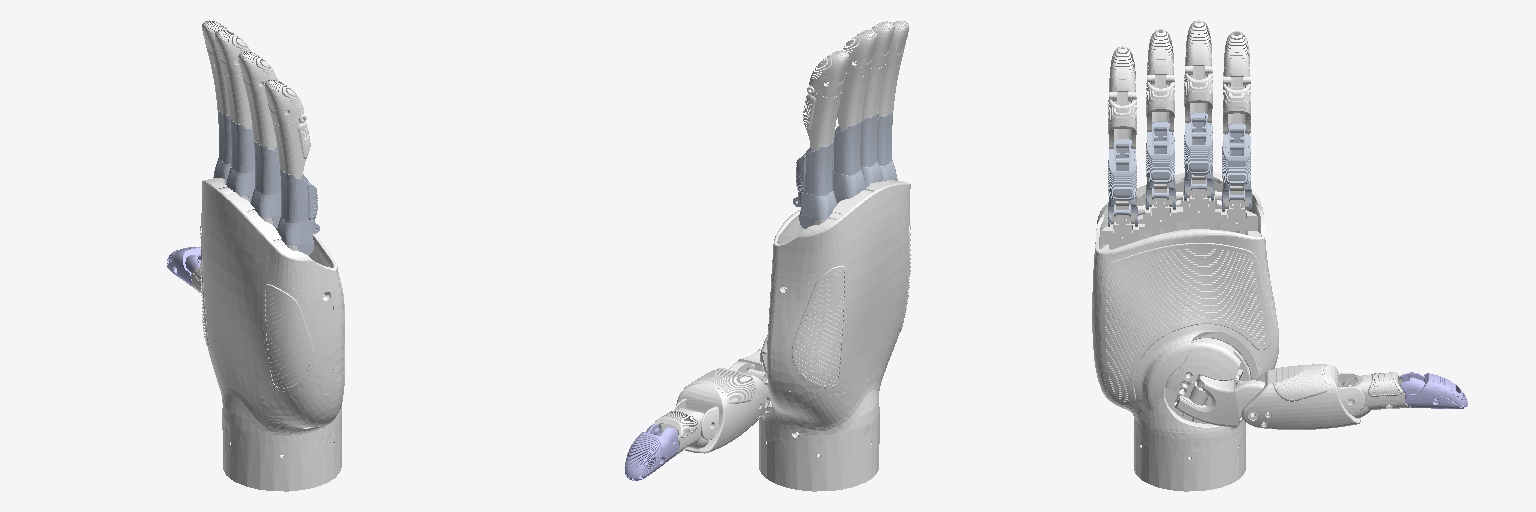
--- What the picture shows (computed from the rendered views, not written in the file) ---
The picture shows the robot from 3 angles, left to right: view 1: azimuth 30°, elevation 25°; view 2: azimuth 150°, elevation 25°; view 3: azimuth 270°, elevation 25°; orthographic projection.
Robot: linker_l20_right_v9.0_urdf — 22 links, 21 joints (21 revolute); root link base_link; default pose: every joint at zero.
Visible links, largest first — view 1: base_link, pinky_proximal, ring_proximal, middle_proximal, pinky_middle, pinky_distal, ring_distal, ring_middle, middle_distal, middle_middle, thumb_distal, index_proximal (+2 smaller); view 2: base_link, thumb_metacarpals, index_proximal, middle_proximal, thumb_distal, index_middle, index_distal, thumb_proximal, middle_middle, ring_proximal, middle_distal, pinky_proximal (+4 smaller); view 3: base_link, thumb_metacarpals, thumb_metacarpals_base1, index_proximal, ring_proximal, middle_proximal, pinky_proximal, thumb_metacarpals_base2, thumb_distal, thumb_proximal, middle_middle, pinky_middle (+6 smaller).
Boxes of the visible links, x1,y1,x2,y2 form: base_link: (200, 178, 344, 491); pinky_proximal: (277, 169, 319, 255); ring_proximal: (251, 141, 280, 227); middle_proximal: (226, 119, 254, 203); pinky_middle: (273, 114, 310, 177); pinky_distal: (264, 80, 303, 125); ring_distal: (238, 51, 277, 97); ring_middle: (246, 92, 276, 149); middle_distal: (215, 30, 250, 75); middle_middle: (223, 72, 251, 127); thumb_distal: (167, 247, 200, 285); index_proximal: (213, 109, 231, 184); base_link: (759, 180, 910, 491); thumb_metacarpals: (674, 361, 770, 453); index_proximal: (793, 141, 836, 228); middle_proximal: (833, 121, 865, 203); thumb_distal: (625, 424, 679, 480); index_middle: (803, 86, 841, 150); index_distal: (809, 50, 849, 97); thumb_proximal: (654, 408, 708, 456); middle_middle: (837, 72, 869, 129); ring_proximal: (861, 112, 882, 187); middle_distal: (842, 30, 877, 76); pinky_proximal: (877, 110, 897, 180); base_link: (1092, 173, 1278, 491); thumb_metacarpals: (1235, 364, 1364, 429); thumb_metacarpals_base1: (1165, 338, 1249, 423); index_proximal: (1222, 123, 1251, 211); ring_proximal: (1146, 121, 1175, 209); middle_proximal: (1184, 113, 1213, 200); pinky_proximal: (1108, 139, 1137, 226); thumb_metacarpals_base2: (1175, 376, 1242, 426); thumb_distal: (1400, 372, 1467, 408); thumb_proximal: (1343, 372, 1411, 418); middle_middle: (1184, 66, 1212, 122); pinky_middle: (1108, 92, 1136, 148).
Size in the robot's own frame: 0.0767 by 0.2132 by 0.2634 metres.
22 mesh visuals loaded from 22 distinct referenced files (22 binary STL).

URDF robot description (linker_l20_right_v9.0_urdf):
<?xml version="1.0" encoding="utf-8"?>
<!-- This URDF was automatically created by SolidWorks to URDF Exporter! Originally created by Stephen Brawner ([email redacted]) 
     Commit Version: 1.6.0-4-g7f85cfe  Build Version: 1.6.7995.38578
     For more information, please see http://wiki.ros.org/sw_urdf_exporter -->
<robot
  name="linker_l20_right_v9.0_urdf">
  <link
    name="base_link">
    <inertial>
      <origin
        xyz="-0.0116260966942382 -0.00274813279998326 0.0887556064299578"
        rpy="0 0 0" />
      <mass
        value="0.119355521222427" />
      <inertia
        ixx="0.000281608895823112"
        ixy="8.38474241472843E-07"
        ixz="-1.21134466138976E-05"
        iyy="0.00019328567036429"
        iyz="4.38631241419914E-07"
        izz="0.000103627416878272" />
    </inertial>
    <visual>
      <origin
        xyz="0 0 0"
        rpy="0 0 0" />
      <geometry>
        <mesh
          filename="meshes/base_link.STL" />
      </geometry>
      <material
        name="">
        <color
          rgba="1 1 1 1" />
      </material>
    </visual>
    <collision>
      <origin
        xyz="0 0 0"
        rpy="0 0 0" />
      <geometry>
        <mesh
          filename="meshes/base_link.STL" />
      </geometry>
    </collision>
  </link>
  <link
    name="pinky_metacarpals">
    <inertial>
      <origin
        xyz="0.0111783787153197 1.73988259632996E-08 0.00220160108534925"
        rpy="0 0 0" />
      <mass
        value="0.000876738307234833" />
      <inertia
        ixx="3.50684268310259E-08"
        ixy="-2.01255880662754E-13"
        ixz="5.24776532940736E-09"
        iyy="2.68810255289946E-08"
        iyz="-3.6732684106161E-14"
        izz="4.23561712818563E-08" />
    </inertial>
    <visual>
      <origin
        xyz="0 0 0"
        rpy="0 0 0" />
      <geometry>
        <mesh
          filename="meshes/pinky_metacarpals.STL" />
      </geometry>
      <material
        name="">
        <color
          rgba="1 1 1 1" />
      </material>
    </visual>
    <collision>
      <origin
        xyz="0 0 0"
        rpy="0 0 0" />
      <geometry>
        <mesh
          filename="meshes/pinky_metacarpals.STL" />
      </geometry>
    </collision>
  </link>
  <joint
    name="pinky_mcp_roll"
    type="revolute">
    <origin
      xyz="-0.028576 -0.038102 0.15031"
      rpy="0 0 0" />
    <parent
      link="base_link" />
    <child
      link="pinky_metacarpals" />
    <axis
      xyz="1 0 0" />
    <limit
      lower="-0.17"
      upper="0.17"
      effort="1"
      velocity="1" />
  </joint>
  <link
    name="pinky_proximal">
    <inertial>
      <origin
        xyz="-0.00112908280804496 -3.86673394475734E-06 0.0228400655439676"
        rpy="0 0 0" />
      <mass
        value="0.00451758867960127" />
      <inertia
        ixx="6.70005738245491E-07"
        ixy="1.07100998730671E-11"
        ixz="-2.60697889693044E-08"
        iyy="6.78910860635017E-07"
        iyz="1.619384302116E-10"
        izz="1.37487233622769E-07" />
    </inertial>
    <visual>
      <origin
        xyz="0 0 0"
        rpy="0 0 0" />
      <geometry>
        <mesh
          filename="meshes/pinky_proximal.STL" />
      </geometry>
      <material
        name="">
        <color
          rgba="0.807843137254902 0.843137254901961 0.905882352941176 1" />
      </material>
    </visual>
    <collision>
      <origin
        xyz="0 0 0"
        rpy="0 0 0" />
      <geometry>
        <mesh
          filename="meshes/pinky_proximal.STL" />
      </geometry>
    </collision>
  </link>
  <joint
    name="pinky_mcp_pitch"
    type="revolute">
    <origin
      xyz="0.016675 0 0"
      rpy="0 0 0" />
    <parent
      link="pinky_metacarpals" />
    <child
      link="pinky_proximal" />
    <axis
      xyz="0 1 0" />
    <limit
      lower="0"
      upper="1.4"
      effort="1"
      velocity="1" />
  </joint>
  <link
    name="pinky_middle">
    <inertial>
      <origin
        xyz="-0.000210918582412463 -2.91656475989721E-06 0.0168376013644396"
        rpy="0 0 0" />
      <mass
        value="0.00240742140800545" />
      <inertia
        ixx="2.37171034123177E-07"
        ixy="-2.70991764305561E-12"
        ixz="-1.39296056921613E-08"
        iyy="1.83342187871652E-07"
        iyz="3.74983864753835E-12"
        izz="9.8226350069222E-08" />
    </inertial>
    <visual>
      <origin
        xyz="0 0 0"
        rpy="0 0 0" />
      <geometry>
        <mesh
          filename="meshes/pinky_middle.STL" />
      </geometry>
      <material
        name="">
        <color
          rgba="1 1 1 1" />
      </material>
    </visual>
    <collision>
      <origin
        xyz="0 0 0"
        rpy="0 0 0" />
      <geometry>
        <mesh
          filename="meshes/pinky_middle.STL" />
      </geometry>
    </collision>
  </link>
  <joint
    name="pinky_pip"
    type="revolute">
    <origin
      xyz="-0.00419455244191127 1.32099958100595E-05 0.0448194355633776"
      rpy="0 0 0" />
    <parent
      link="pinky_proximal" />
    <child
      link="pinky_middle" />
    <axis
      xyz="0 1 0" />
    <limit
      lower="0"
      upper="1.57"
      effort="1"
      velocity="1" />
  </joint>
  <link
    name="pinky_distal">
    <inertial>
      <origin
        xyz="-0.00807040294887727 -1.95860163051398E-05 0.00803087332396402"
        rpy="0 0 0" />
      <mass
        value="0.00337412669848792" />
      <inertia
        ixx="1.62067265373363E-07"
        ixy="-1.03084161797139E-10"
        ixz="-5.96264453601984E-08"
        iyy="1.79090083193527E-07"
        iyz="1.05530293251026E-10"
        izz="1.32918139665313E-07" />
    </inertial>
    <visual>
      <origin
        xyz="0 0 0"
        rpy="0 0 0" />
      <geometry>
        <mesh
          filename="meshes/pinky_distal.STL" />
      </geometry>
      <material
        name="">
        <color
          rgba="1 1 1 1" />
      </material>
    </visual>
    <collision>
      <origin
        xyz="0 0 0"
        rpy="0 0 0" />
      <geometry>
        <mesh
          filename="meshes/pinky_distal.STL" />
      </geometry>
    </collision>
  </link>
  <joint
    name="pinky_dip"
    type="revolute">
    <origin
      xyz="0.0027556 0 0.031702"
      rpy="0 0 0" />
    <parent
      link="pinky_middle" />
    <child
      link="pinky_distal" />
    <axis
      xyz="0 1 0" />
    <limit
      lower="0"
      upper="1.4"
      effort="1"
      velocity="1" />
    <mimic
      joint="pinky_pip"
      multiplier="0.8917"
      offset="0" />
  </joint>
  <link
    name="ring_metacarpals">
    <inertial>
      <origin
        xyz="0.0111783787153197 -5.36905619352712E-07 0.0022016396219149"
        rpy="0 0 0" />
      <mass
        value="0.000876738307234883" />
      <inertia
        ixx="3.5068426831027E-08"
        ixy="-2.01255880718238E-13"
        ixz="5.24776532940712E-09"
        iyy="2.68810255289954E-08"
        iyz="-3.67326835665223E-14"
        izz="4.23561712818567E-08" />
    </inertial>
    <visual>
      <origin
        xyz="0 0 0"
        rpy="0 0 0" />
      <geometry>
        <mesh
          filename="meshes/ring_metacarpals.STL" />
      </geometry>
      <material
        name="">
        <color
          rgba="1 1 1 1" />
      </material>
    </visual>
    <collision>
      <origin
        xyz="0 0 0"
        rpy="0 0 0" />
      <geometry>
        <mesh
          filename="meshes/ring_metacarpals.STL" />
      </geometry>
    </collision>
  </link>
  <joint
    name="ring_mcp_roll"
    type="revolute">
    <origin
      xyz="-0.032199 -0.016502 0.15931"
      rpy="0 0 0" />
    <parent
      link="base_link" />
    <child
      link="ring_metacarpals" />
    <axis
      xyz="1 0 0" />
    <limit
      lower="-0.17"
      upper="0.17"
      effort="1"
      velocity="1" />
  </joint>
  <link
    name="ring_proximal">
    <inertial>
      <origin
        xyz="-0.00112908262583935 -1.70769630077061E-05 0.0228400659770985"
        rpy="0 0 0" />
      <mass
        value="0.00451758885102983" />
      <inertia
        ixx="6.70005760179099E-07"
        ixy="1.07124239123891E-11"
        ixz="-2.60697922383748E-08"
        iyy="6.78910876105749E-07"
        iyz="1.61928071276549E-10"
        izz="1.37487241358748E-07" />
    </inertial>
    <visual>
      <origin
        xyz="0 0 0"
        rpy="0 0 0" />
      <geometry>
        <mesh
          filename="meshes/ring_proximal.STL" />
      </geometry>
      <material
        name="">
        <color
          rgba="0.807843137254902 0.843137254901961 0.905882352941176 1" />
      </material>
    </visual>
    <collision>
      <origin
        xyz="0 0 0"
        rpy="0 0 0" />
      <geometry>
        <mesh
          filename="meshes/ring_proximal.STL" />
      </geometry>
    </collision>
  </link>
  <joint
    name="ring_mcp_pitch"
    type="revolute">
    <origin
      xyz="0.016675 1.2656E-05 0"
      rpy="0 0 0" />
    <parent
      link="ring_metacarpals" />
    <child
      link="ring_proximal" />
    <axis
      xyz="0 1 0" />
    <limit
      lower="0"
      upper="1.4"
      effort="1"
      velocity="1" />
  </joint>
  <link
    name="ring_middle">
    <inertial>
      <origin
        xyz="-0.00021091859446306 -2.91657898018882E-06 0.0168376013345287"
        rpy="0 0 0" />
      <mass
        value="0.00240742140052362" />
      <inertia
        ixx="2.37171033138143E-07"
        ixy="-2.7100414951465E-12"
        ixz="-1.39296060459522E-08"
        iyy="1.83342186859774E-07"
        iyz="3.74956284923257E-12"
        izz="9.82263498201999E-08" />
    </inertial>
    <visual>
      <origin
        xyz="0 0 0"
        rpy="0 0 0" />
      <geometry>
        <mesh
          filename="meshes/ring_middle.STL" />
      </geometry>
      <material
        name="">
        <color
          rgba="1 1 1 1" />
      </material>
    </visual>
    <collision>
      <origin
        xyz="0 0 0"
        rpy="0 0 0" />
      <geometry>
        <mesh
          filename="meshes/ring_middle.STL" />
      </geometry>
    </collision>
  </link>
  <joint
    name="ring_pip"
    type="revolute">
    <origin
      xyz="-0.00419455244174995 0 0.0448194355645609"
      rpy="0 0 0" />
    <parent
      link="ring_proximal" />
    <child
      link="ring_middle" />
    <axis
      xyz="0 1 0" />
    <limit
      lower="0"
      upper="1.57"
      effort="1"
      velocity="1" />
  </joint>
  <link
    name="ring_distal">
    <inertial>
      <origin
        xyz="-0.00807040294866931 -1.9586017669021E-05 0.00803087256062983"
        rpy="0 0 0" />
      <mass
        value="0.0033741266986076" />
      <inertia
        ixx="1.6206726538022E-07"
        ixy="-1.03084186529573E-10"
        ixz="-5.96264453639804E-08"
        iyy="1.79090083161836E-07"
        iyz="1.05530278574068E-10"
        izz="1.32918139683415E-07" />
    </inertial>
    <visual>
      <origin
        xyz="0 0 0"
        rpy="0 0 0" />
      <geometry>
        <mesh
          filename="meshes/ring_distal.STL" />
      </geometry>
      <material
        name="">
        <color
          rgba="1 1 1 1" />
      </material>
    </visual>
    <collision>
      <origin
        xyz="0 0 0"
        rpy="0 0 0" />
      <geometry>
        <mesh
          filename="meshes/ring_distal.STL" />
      </geometry>
    </collision>
  </link>
  <joint
    name="ring_dip"
    type="revolute">
    <origin
      xyz="0.00275561956405355 0 0.0317024252327154"
      rpy="0 0 0" />
    <parent
      link="ring_middle" />
    <child
      link="ring_distal" />
    <axis
      xyz="0 1 0" />
    <limit
      lower="0"
      upper="1.4"
      effort="1"
      velocity="1" />
    <mimic
      joint="ring_pip"
      multiplier="0.8917"
      offset="0" />
  </joint>
  <link
    name="middle_metacarpals">
    <inertial>
      <origin
        xyz="0.0111783787153198 -5.36905619463734E-07 0.00220163962191467"
        rpy="0 0 0" />
      <mass
        value="0.000876738307234834" />
      <inertia
        ixx="3.50684268310259E-08"
        ixy="-2.0125588061605E-13"
        ixz="5.24776532940725E-09"
        iyy="2.68810255289945E-08"
        iyz="-3.67326839308491E-14"
        izz="4.23561712818563E-08" />
    </inertial>
    <visual>
      <origin
        xyz="0 0 0"
        rpy="0 0 0" />
      <geometry>
        <mesh
          filename="meshes/middle_metacarpals.STL" />
      </geometry>
      <material
        name="">
        <color
          rgba="1 1 1 1" />
      </material>
    </visual>
    <collision>
      <origin
        xyz="0 0 0"
        rpy="0 0 0" />
      <geometry>
        <mesh
          filename="meshes/middle_metacarpals.STL" />
      </geometry>
    </collision>
  </link>
  <joint
    name="middle_mcp_roll"
    type="revolute">
    <origin
      xyz="-0.0345042006792679 0.00509811417717426 0.163804307612682"
      rpy="0 0 0" />
    <parent
      link="base_link" />
    <child
      link="middle_metacarpals" />
    <axis
      xyz="0.999999999998204 0 0" />
    <limit
      lower="-0.17"
      upper="0.17"
      effort="1"
      velocity="1" />
  </joint>
  <link
    name="middle_proximal">
    <inertial>
      <origin
        xyz="-0.00112908264667504 -1.70765644096349E-05 0.0228400658126111"
        rpy="0 0 0" />
      <mass
        value="0.00451758879836063" />
      <inertia
        ixx="6.70005750213689E-07"
        ixy="1.0709683946819E-11"
        ixz="-2.60697892463952E-08"
        iyy="6.7891086764891E-07"
        iyz="1.61944386240367E-10"
        izz="1.37487237816443E-07" />
    </inertial>
    <visual>
      <origin
        xyz="0 0 0"
        rpy="0 0 0" />
      <geometry>
        <mesh
          filename="meshes/middle_proximal.STL" />
      </geometry>
      <material
        name="">
        <color
          rgba="0.807843137254902 0.843137254901961 0.905882352941176 1" />
      </material>
    </visual>
    <collision>
      <origin
        xyz="0 0 0"
        rpy="0 0 0" />
      <geometry>
        <mesh
          filename="meshes/middle_proximal.STL" />
      </geometry>
    </collision>
  </link>
  <joint
    name="middle_mcp_pitch"
    type="revolute">
    <origin
      xyz="0.0166748095398548 1.26556862705962E-05 0"
      rpy="0 0 0" />
    <parent
      link="middle_metacarpals" />
    <child
      link="middle_proximal" />
    <axis
      xyz="0 1 0" />
    <limit
      lower="0"
      upper="1.4"
      effort="1"
      velocity="1" />
  </joint>
  <link
    name="middle_middle">
    <inertial>
      <origin
        xyz="-0.000210918582531389 -2.91656481549163E-06 0.0168376013611927"
        rpy="0 0 0" />
      <mass
        value="0.00240742140799016" />
      <inertia
        ixx="2.3717103371746E-07"
        ixy="-2.70991790215455E-12"
        ixz="-1.39296056849284E-08"
        iyy="1.83342187462169E-07"
        iyz="3.74983812024697E-12"
        izz="9.82263500660551E-08" />
    </inertial>
    <visual>
      <origin
        xyz="0 0 0"
        rpy="0 0 0" />
      <geometry>
        <mesh
          filename="meshes/middle_middle.STL" />
      </geometry>
      <material
        name="">
        <color
          rgba="1 1 1 1" />
      </material>
    </visual>
    <collision>
      <origin
        xyz="0 0 0"
        rpy="0 0 0" />
      <geometry>
        <mesh
          filename="meshes/middle_middle.STL" />
      </geometry>
    </collision>
  </link>
  <joint
    name="middle_pip"
    type="revolute">
    <origin
      xyz="-0.00419455244189623 0 0.0448194355665477"
      rpy="0 0 0" />
    <parent
      link="middle_proximal" />
    <child
      link="middle_middle" />
    <axis
      xyz="0 1 0" />
    <limit
      lower="0"
      upper="1.57"
      effort="1"
      velocity="1" />
  </joint>
  <link
    name="middle_distal">
    <inertial>
      <origin
        xyz="-0.00807040294827011 -1.95860161913697E-05 0.00803087332606282"
        rpy="0 0 0" />
      <mass
        value="0.00337412669879527" />
      <inertia
        ixx="1.62067265406276E-07"
        ixy="-1.03084160292156E-10"
        ixz="-5.96264453651413E-08"
        iyy="1.79090083197241E-07"
        iyz="1.05530287328658E-10"
        izz="1.32918139683668E-07" />
    </inertial>
    <visual>
      <origin
        xyz="0 0 0"
        rpy="0 0 0" />
      <geometry>
        <mesh
          filename="meshes/middle_distal.STL" />
      </geometry>
      <material
        name="">
        <color
          rgba="1 1 1 1" />
      </material>
    </visual>
    <collision>
      <origin
        xyz="0 0 0"
        rpy="0 0 0" />
      <geometry>
        <mesh
          filename="meshes/middle_distal.STL" />
      </geometry>
    </collision>
  </link>
  <joint
    name="middle_dip"
    type="revolute">
    <origin
      xyz="0.00275561956368908 0 0.031702425228504"
      rpy="0 0 0" />
    <parent
      link="middle_middle" />
    <child
      link="middle_distal" />
    <axis
      xyz="0 1 0" />
    <limit
      lower="0"
      upper="1.4"
      effort="1"
      velocity="1" />
    <mimic
      joint="middle_pip"
      multiplier="0.8917"
      offset="0" />
  </joint>
  <link
    name="index_metacarpals">
    <inertial>
      <origin
        xyz="0.0111783787153197 -5.36905619408223E-07 0.0022016396219149"
        rpy="0 0 0" />
      <mass
        value="0.000876738307234888" />
      <inertia
        ixx="3.50684268310272E-08"
        ixy="-2.01255880639633E-13"
        ixz="5.24776532940715E-09"
        iyy="2.68810255289955E-08"
        iyz="-3.67326838815665E-14"
        izz="4.23561712818569E-08" />
    </inertial>
    <visual>
      <origin
        xyz="0 0 0"
        rpy="0 0 0" />
      <geometry>
        <mesh
          filename="meshes/index_metacarpals.STL" />
      </geometry>
      <material
        name="">
        <color
          rgba="1 1 1 1" />
      </material>
    </visual>
    <collision>
      <origin
        xyz="0 0 0"
        rpy="0 0 0" />
      <geometry>
        <mesh
          filename="meshes/index_metacarpals.STL" />
      </geometry>
    </collision>
  </link>
  <joint
    name="index_mcp_roll"
    type="revolute">
    <origin
      xyz="-0.0297703583048348 0.026698113515616 0.159311418025823"
      rpy="0 0 0" />
    <parent
      link="base_link" />
    <child
      link="index_metacarpals" />
    <axis
      xyz="0.999999999998204 0 0" />
    <limit
      lower="-0.17"
      upper="0.17"
      effort="1"
      velocity="1" />
  </joint>
  <link
    name="index_proximal">
    <inertial>
      <origin
        xyz="-0.00112908264491655 -3.86657489762077E-06 0.0228400658147424"
        rpy="0 0 0" />
      <mass
        value="0.00451758879934099" />
      <inertia
        ixx="6.70005750303174E-07"
        ixy="1.07096827382529E-11"
        ixz="-2.60697892451836E-08"
        iyy="6.78910867706126E-07"
        iyz="1.61944343361799E-10"
        izz="1.37487237848926E-07" />
    </inertial>
    <visual>
      <origin
        xyz="0 0 0"
        rpy="0 0 0" />
      <geometry>
        <mesh
          filename="meshes/index_proximal.STL" />
      </geometry>
      <material
        name="">
        <color
          rgba="0.807843137254902 0.843137254901961 0.905882352941176 1" />
      </material>
    </visual>
    <collision>
      <origin
        xyz="0 0 0"
        rpy="0 0 0" />
      <geometry>
        <mesh
          filename="meshes/index_proximal.STL" />
      </geometry>
    </collision>
  </link>
  <joint
    name="index_mcp_pitch"
    type="revolute">
    <origin
      xyz="0.0166748095646496 0 0"
      rpy="0 0 0" />
    <parent
      link="index_metacarpals" />
    <child
      link="index_proximal" />
    <axis
      xyz="0 1 0" />
    <limit
      lower="0"
      upper="1.4"
      effort="1"
      velocity="1" />
  </joint>
  <link
    name="index_middle">
    <inertial>
      <origin
        xyz="-0.000210918632589208 -2.91655816400671E-06 0.0168376013550637"
        rpy="0 0 0" />
      <mass
        value="0.00240742140798158" />
      <inertia
        ixx="2.37171033813523E-07"
        ixy="-2.70992594914544E-12"
        ixz="-1.3929605674102E-08"
        iyy="1.83342187562481E-07"
        iyz="3.74988422279869E-12"
        izz="9.82263500700157E-08" />
    </inertial>
    <visual>
      <origin
        xyz="0 0 0"
        rpy="0 0 0" />
      <geometry>
        <mesh
          filename="meshes/index_middle.STL" />
      </geometry>
      <material
        name="">
        <color
          rgba="1 1 1 1" />
      </material>
    </visual>
    <collision>
      <origin
        xyz="0 0 0"
        rpy="0 0 0" />
      <geometry>
        <mesh
          filename="meshes/index_middle.STL" />
      </geometry>
    </collision>
  </link>
  <joint
    name="index_pip"
    type="revolute">
    <origin
      xyz="-0.00419455239160021 1.32099983796707E-05 0.0448194355727413"
      rpy="0 0 0" />
    <parent
      link="index_proximal" />
    <child
      link="index_middle" />
    <axis
      xyz="0 1 0" />
    <limit
      lower="0"
      upper="1.57"
      effort="1"
      velocity="1" />
  </joint>
  <link
    name="index_distal">
    <inertial>
      <origin
        xyz="-0.00807040294819541 -1.95860155396688E-05 0.00803087332614133"
        rpy="0 0 0" />
      <mass
        value="0.0033741266988187" />
      <inertia
        ixx="1.62067265427891E-07"
        ixy="-1.030841487474E-10"
        ixz="-5.96264453690637E-08"
        iyy="1.79090083185726E-07"
        iyz="1.05530285191432E-10"
        izz="1.32918139694536E-07" />
    </inertial>
    <visual>
      <origin
        xyz="0 0 0"
        rpy="0 0 0" />
      <geometry>
        <mesh
          filename="meshes/index_distal.STL" />
      </geometry>
      <material
        name="">
        <color
          rgba="1 1 1 1" />
      </material>
    </visual>
    <collision>
      <origin
        xyz="0 0 0"
        rpy="0 0 0" />
      <geometry>
        <mesh
          filename="meshes/index_distal.STL" />
      </geometry>
    </collision>
  </link>
  <joint
    name="index_dip"
    type="revolute">
    <origin
      xyz="0.00275561951363186 0 0.0317024252223218"
      rpy="0 0 0" />
    <parent
      link="index_middle" />
    <child
      link="index_distal" />
    <axis
      xyz="0 1 0" />
    <limit
      lower="0"
      upper="1.4"
      effort="1"
      velocity="1" />
    <mimic
      joint="index_pip"
      multiplier="0.8917"
      offset="0" />
  </joint>
  <link
    name="thumb_metacarpals_base1">
    <inertial>
      <origin
        xyz="0.00225106540143255 0.0106280781314811 0.00386496887062775"
        rpy="0 0 0" />
      <mass
        value="0.0123197273270212" />
      <inertia
        ixx="3.08398596758481E-06"
        ixy="-7.90434968870597E-08"
        ixz="4.99257949343636E-08"
        iyy="4.73419522678173E-06"
        iyz="-1.89397292598919E-07"
        izz="2.03268500392085E-06" />
    </inertial>
    <visual>
      <origin
        xyz="0 0 0"
        rpy="0 0 0" />
      <geometry>
        <mesh
          filename="meshes/thumb_metacarpals_base1.STL" />
      </geometry>
      <material
        name="">
        <color
          rgba="1 1 1 1" />
      </material>
    </visual>
    <collision>
      <origin
        xyz="0 0 0"
        rpy="0 0 0" />
      <geometry>
        <mesh
          filename="meshes/thumb_metacarpals_base1.STL" />
      </geometry>
    </collision>
  </link>
  <joint
    name="thumb_cmc_yaw"
    type="revolute">
    <origin
      xyz="0.0039847 0.0050818 0.057392"
      rpy="3.1416 0 1.5708" />
    <parent
      link="base_link" />
    <child
      link="thumb_metacarpals_base1" />
    <axis
      xyz="0 1 0" />
    <limit
      lower="0"
      upper="1.4"
      effort="1"
      velocity="1" />
  </joint>
  <link
    name="thumb_metacarpals_base2">
    <inertial>
      <origin
        xyz="0.00119794122046318 0.00176288166433086 0.00980405746394286"
        rpy="0 0 0" />
      <mass
        value="0.00459776097124383" />
      <inertia
        ixx="7.31648689063878E-07"
        ixy="-4.16925980705595E-08"
        ixz="7.27793121012466E-08"
        iyy="5.38489639105841E-07"
        iyz="-1.05409912056041E-07"
        izz="3.72559163410338E-07" />
    </inertial>
    <visual>
      <origin
        xyz="0 0 0"
        rpy="0 0 0" />
      <geometry>
        <mesh
          filename="meshes/thumb_metacarpals_base2.STL" />
      </geometry>
      <material
        name="">
        <color
          rgba="1 1 1 1" />
      </material>
    </visual>
    <collision>
      <origin
        xyz="0 0 0"
        rpy="0 0 0" />
      <geometry>
        <mesh
          filename="meshes/thumb_metacarpals_base2.STL" />
      </geometry>
    </collision>
  </link>
  <joint
    name="thumb_cmc_roll"
    type="revolute">
    <origin
      xyz="0.000784740002368223 0.0196077603627024 0.000308721957079858"
      rpy="1.18264333118745 0 1.57079632679503" />
    <parent
      link="thumb_metacarpals_base1" />
    <child
      link="thumb_metacarpals_base2" />
    <axis
      xyz="0 1 0" />
    <limit
      lower="0"
      upper="1.22"
      effort="1"
      velocity="1" />
  </joint>
  <link
    name="thumb_metacarpals">
    <inertial>
      <origin
        xyz="0.00549384865796482 0.00805524685758721 0.0258290762784949"
        rpy="0 0 0" />
      <mass
        value="0.0119728760675928" />
      <inertia
        ixx="4.12796153480032E-06"
        ixy="2.08264516047914E-08"
        ixz="1.78085589076533E-08"
        iyy="4.82110081302191E-06"
        iyz="6.19419770800233E-08"
        izz="1.21324079339986E-06" />
    </inertial>
    <visual>
      <origin
        xyz="0 0 0"
        rpy="0 0 0" />
      <geometry>
        <mesh
          filename="meshes/thumb_metacarpals.STL" />
      </geometry>
      <material
        name="">
        <color
          rgba="1 1 1 1" />
      </material>
    </visual>
    <collision>
      <origin
        xyz="0 0 0"
        rpy="0 0 0" />
      <geometry>
        <mesh
          filename="meshes/thumb_metacarpals.STL" />
      </geometry>
    </collision>
  </link>
  <joint
    name="thumb_cmc_pitch"
    type="revolute">
    <origin
      xyz="-0.000109690908352875 -0.00396440679180957 0.0307945044045898"
      rpy="0 0.388152995607441 -1.57079632624948" />
    <parent
      link="thumb_metacarpals_base2" />
    <child
      link="thumb_metacarpals" />
    <axis
      xyz="0 1 0" />
    <limit
      lower="0"
      upper="0.79"
      effort="1"
      velocity="1" />
  </joint>
  <link
    name="thumb_proximal">
    <inertial>
      <origin
        xyz="-0.0011057174593414 0.000334119020688653 0.0128607021591473"
        rpy="0 0 0" />
      <mass
        value="0.00515940162015082" />
      <inertia
        ixx="4.56371524641978E-07"
        ixy="1.15255552260169E-09"
        ixz="8.11361744697202E-08"
        iyy="6.16289154720601E-07"
        iyz="5.36536229784869E-09"
        izz="2.4689422432426E-07" />
    </inertial>
    <visual>
      <origin
        xyz="0 0 0"
        rpy="0 0 0" />
      <geometry>
        <mesh
          filename="meshes/thumb_proximal.STL" />
      </geometry>
      <material
        name="">
        <color
          rgba="1 1 1 1" />
      </material>
    </visual>
    <collision>
      <origin
        xyz="0 0 0"
        rpy="0 0 0" />
      <geometry>
        <mesh
          filename="meshes/thumb_proximal.STL" />
      </geometry>
    </collision>
  </link>
  <joint
    name="thumb_mcp"
    type="revolute">
    <origin
      xyz="0.00857856380171737 0 0.0555715948082196"
      rpy="0 0 0" />
    <parent
      link="thumb_metacarpals" />
    <child
      link="thumb_proximal" />
    <axis
      xyz="0 1 0" />
    <limit
      lower="0"
      upper="1.05"
      effort="1"
      velocity="1" />
  </joint>
  <link
    name="thumb_distal">
    <inertial>
      <origin
        xyz="-0.00636210776657178 4.14651450399844E-05 0.0118150620527104"
        rpy="0 0 0" />
      <mass
        value="0.00614449456083594" />
      <inertia
        ixx="3.71418540379979E-07"
        ixy="2.36548498459678E-10"
        ixz="-9.49666673834207E-08"
        iyy="4.48768445500361E-07"
        iyz="-9.82614466952934E-10"
        izz="1.66160918259876E-07" />
    </inertial>
    <visual>
      <origin
        xyz="0 0 0"
        rpy="0 0 0" />
      <geometry>
        <mesh
          filename="meshes/thumb_distal.STL" />
      </geometry>
      <material
        name="">
        <color
          rgba="0.823529411764706 0.823529411764706 1 1" />
      </material>
    </visual>
    <collision>
      <origin
        xyz="0 0 0"
        rpy="0 0 0" />
      <geometry>
        <mesh
          filename="meshes/thumb_distal.STL" />
      </geometry>
    </collision>
  </link>
  <joint
    name="thumb_dip"
    type="revolute">
    <origin
      xyz="0.0066653832125308 0 0.0342561774516276"
      rpy="0 0 0" />
    <parent
      link="thumb_proximal" />
    <child
      link="thumb_distal" />
    <axis
      xyz="0 1 0" />
    <limit
      lower="0"
      upper="1.22"
      effort="1"
      velocity="1" />
    <mimic
      joint="thumb_mcp"
      multiplier="1.1619"
      offset="0" />
  </joint>
</robot>
